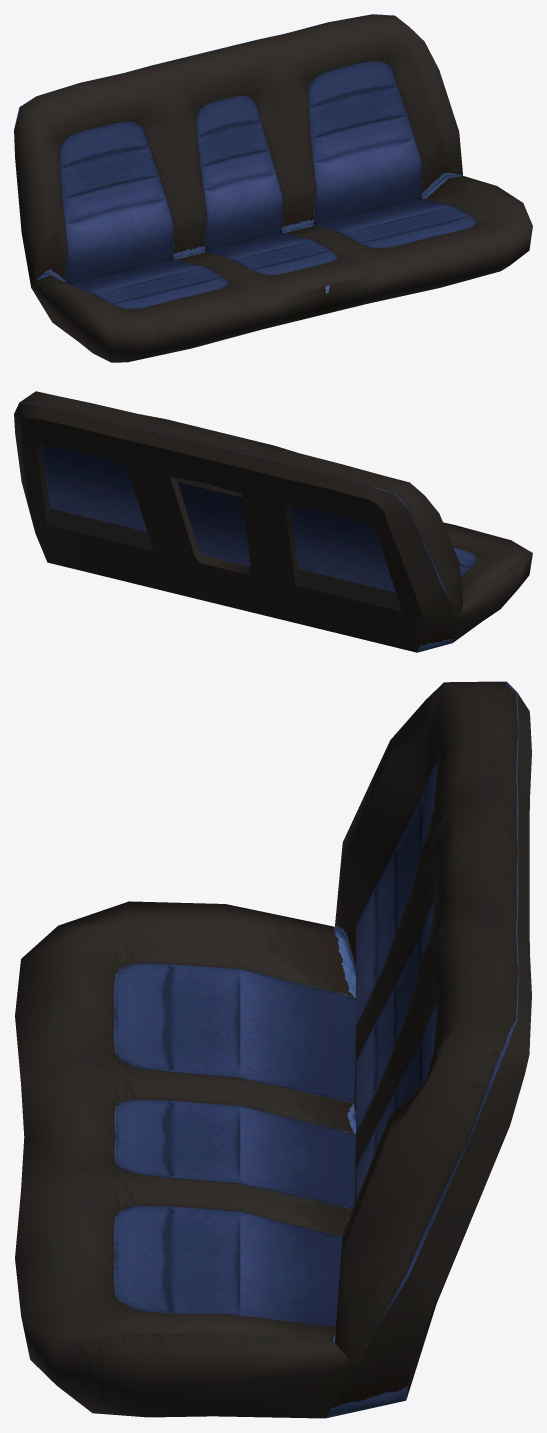
Rendered from SportSeat.fbx.
3 renders of one model, top to bottom at view 1: azimuth 30°, elevation 25°; view 2: azimuth 150°, elevation 25°; view 3: azimuth 270°, elevation 25°, orthographic. The views are drawn at different scales.
Parts seen in each view (by area): view 1: node_id239; view 2: node_id239; view 3: node_id239.
Part boxes in pixels (bbox=[...]): node_id239: bbox=[14, 14, 532, 362]; node_id239: bbox=[14, 391, 532, 652]; node_id239: bbox=[15, 681, 531, 1418].
Size of the model in its own units: 0.512 by 0.2052 by 0.2586.
Materials: 1 (1 with a texture image).
